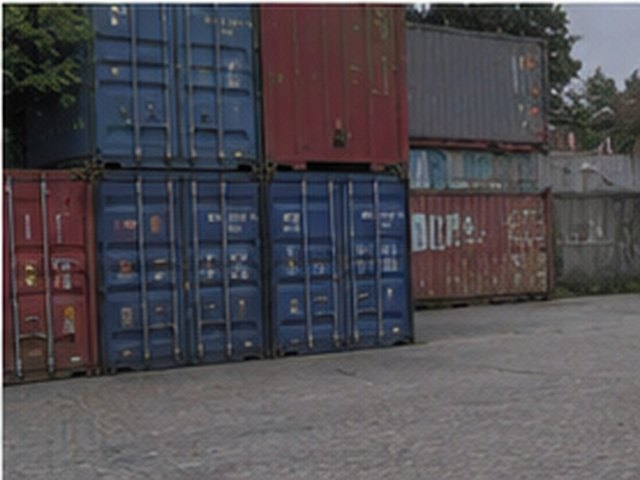male: (27, 4, 258, 169), (97, 172, 263, 369), (267, 172, 412, 354), (260, 4, 407, 168), (3, 170, 97, 381), (407, 24, 546, 150), (410, 190, 552, 303), (173, 3, 260, 168), (553, 192, 639, 291), (409, 148, 540, 192), (538, 152, 639, 192)
